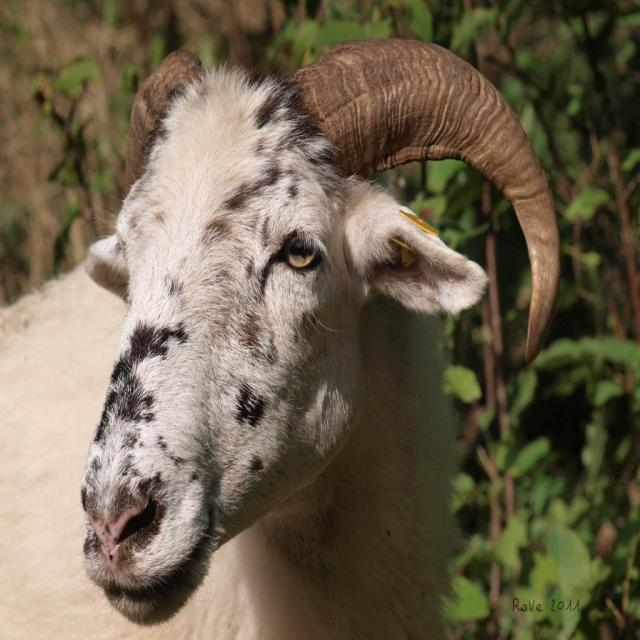Goat: (0, 38, 560, 640)
